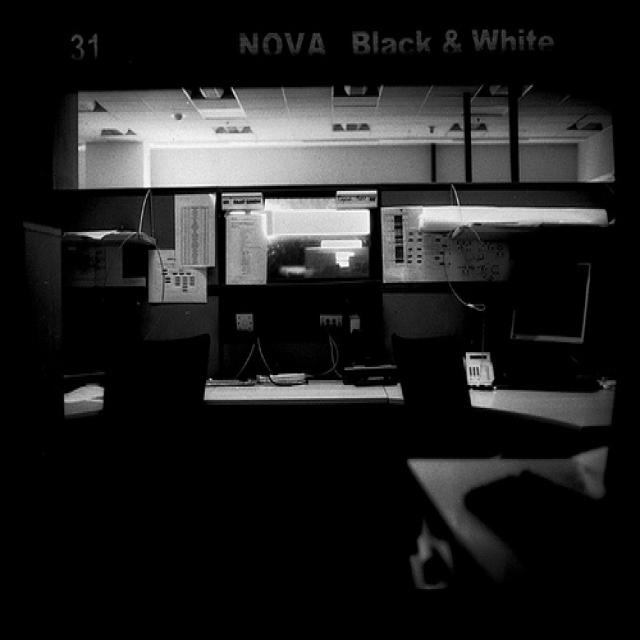Table: (11, 284, 640, 640)
